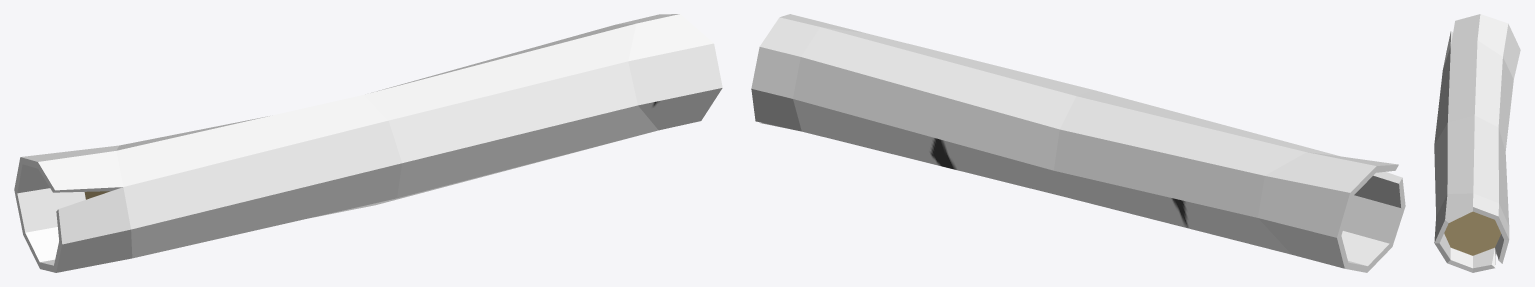
File: Birch_Log_Snow_07.fbx
The picture shows the model from 3 angles, left to right: view 1: azimuth 30°, elevation 25°; view 2: azimuth 150°, elevation 25°; view 3: azimuth 270°, elevation 25°; orthographic projection. The views are drawn at different scales.
Parts seen in each view (by area): view 1: Birch_Log_Snow_07; view 2: Birch_Log_Snow_07; view 3: Birch_Log_Snow_07.
Part boxes in pixels (x1,y1,x2,y2): Birch_Log_Snow_07: (14,14,722,272); Birch_Log_Snow_07: (751,14,1405,272); Birch_Log_Snow_07: (1434,14,1520,272).
Bounding box in the file's own units: 201 × 33.58 × 37.62.
